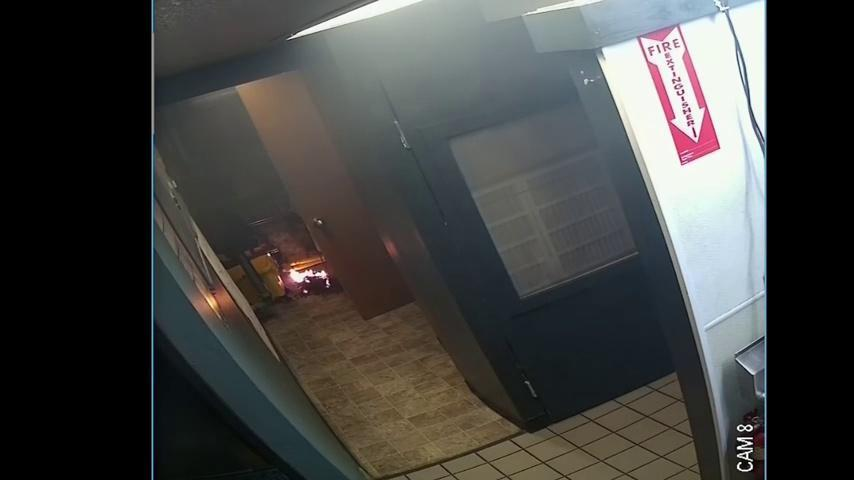fire: (254, 219, 359, 304)
